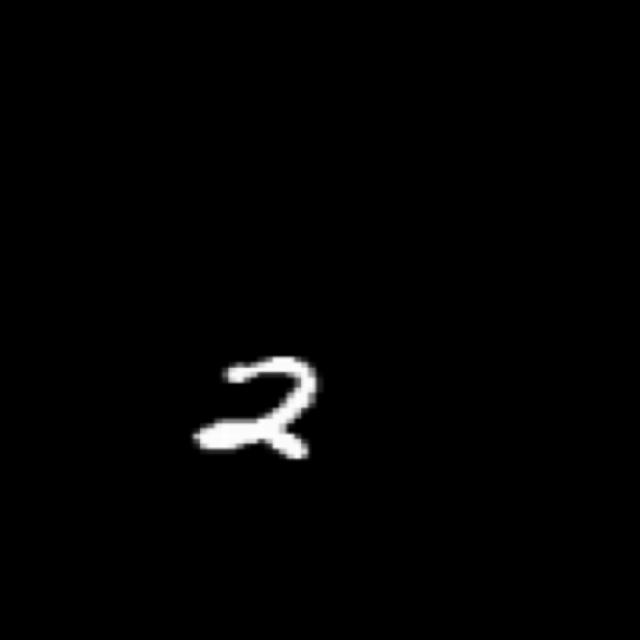two -2-: (185, 352, 334, 467)
